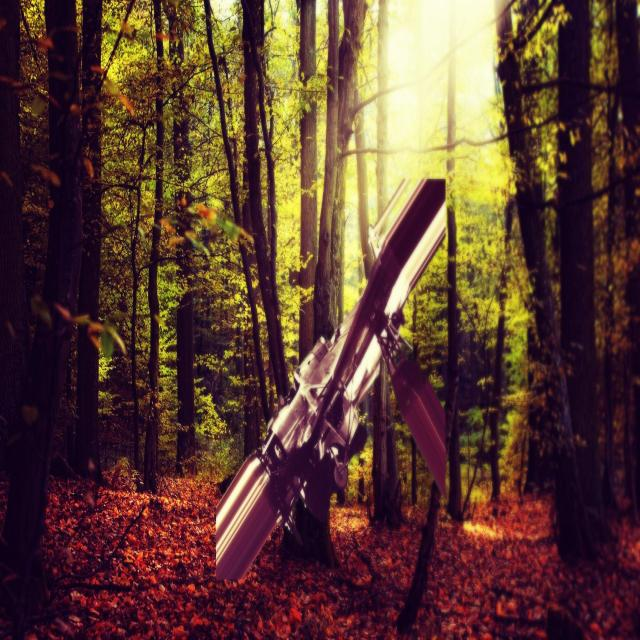airplane: (214, 175, 449, 582)
